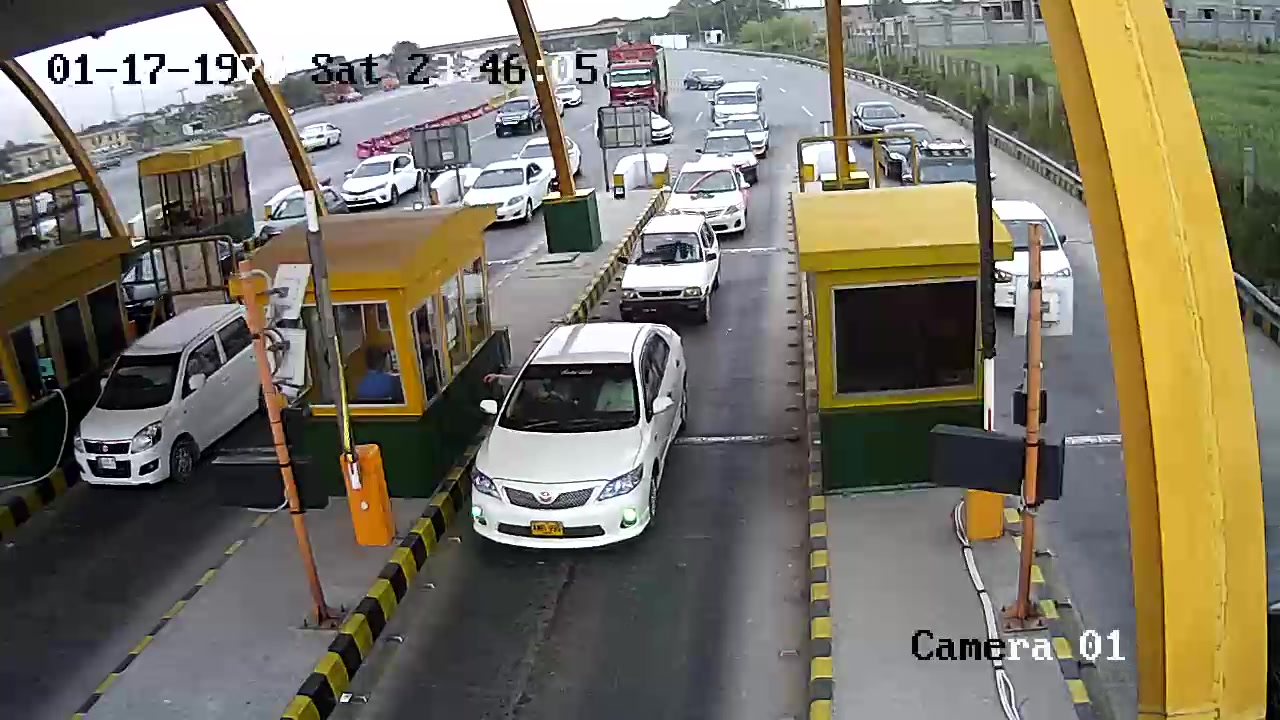F1: (469, 314, 720, 551)
